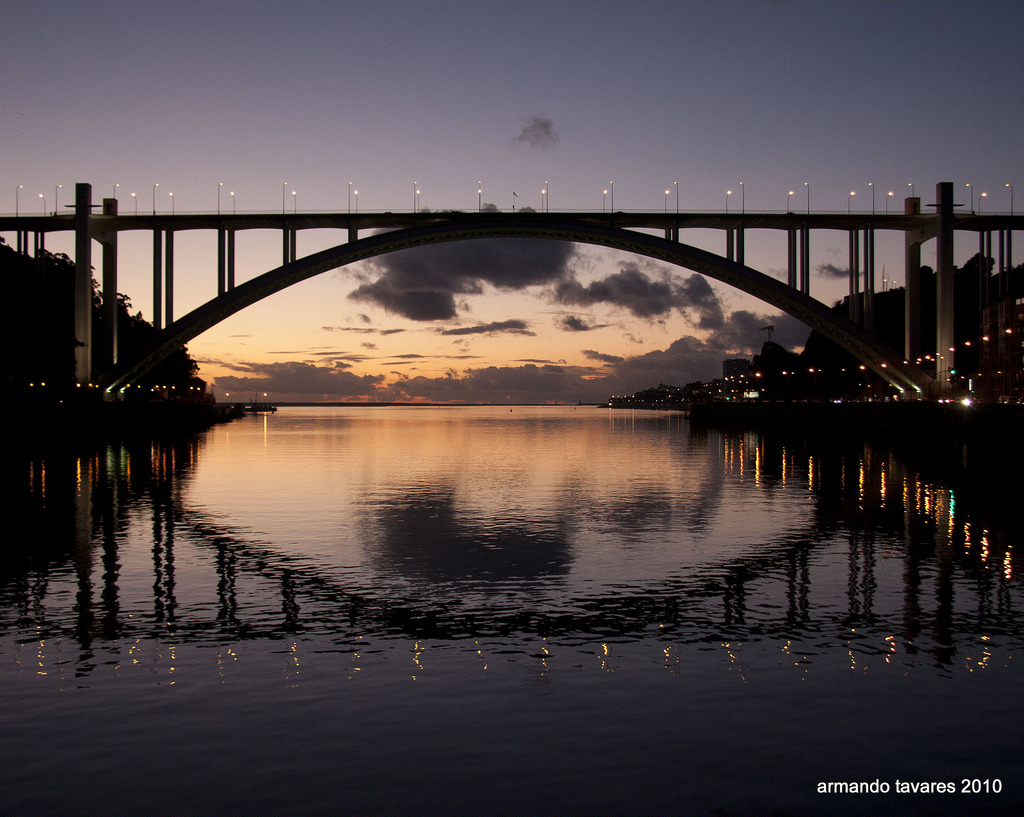arrabida: (0, 180, 1023, 400)
